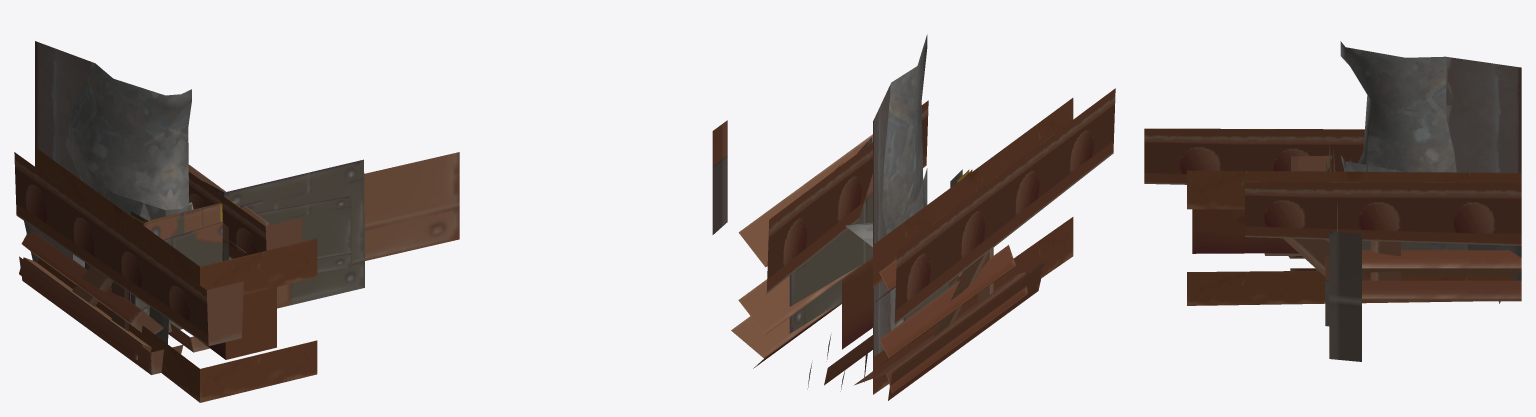
3 views of the same model, side by side, from view 1: azimuth 30°, elevation 25°; view 2: azimuth 150°, elevation 25°; view 3: azimuth 270°, elevation 25° (orthographic). The views are drawn at different scales.
Visible parts, largest first — view 1: rsrc.world.tileset.city_base.wall.high-Variant[high_horiz_ca (×3), rsrc.world.tileset.city_base.wall.high-Variant[high_vert_x2_ (×2), rsrc.world.tileset.city_base.wall.high-Variant[high_column01, rsrc.world.tileset.city_base.wall.high-Variant[high_horiz_x3 (×2), rsrc.world.tileset.city_base.wall.high-Variant[high_horiz_x2, rsrc.world.tileset.city_base.wall.high-Variant[high_vert_cap (×2), rsrc.world.tileset.city_base.wall.high-Variant[high_to_low_h, rsrc.world.tileset.city_base.wall.high-Variant[high_vert_02], rsrc.world.tileset.city_base.wall.high-Variant[high_vert_04], rsrc.world.tileset.city_base.wall.high-Variant[high_vert_01], rsrc.world.tileset.city_base.wall.high-Variant[high_horiz_05; view 2: rsrc.world.tileset.city_base.wall.high-Variant[high_horiz_ca (×3), rsrc.world.tileset.city_base.wall.high-Variant[high_column01, rsrc.world.tileset.city_base.wall.high-Variant[high_vert_cap (×3), rsrc.world.tileset.city_base.wall.high-Variant[high_vert_x2_ (×2), rsrc.world.tileset.city_base.wall.high-Variant[high_to_low_h, rsrc.world.tileset.city_base.wall.high-Variant[high_horiz_x2, rsrc.world.tileset.city_base.wall.high-Variant[high_horiz_05, rsrc.world.tileset.city_base.wall.high-Variant[high_vert_01]; view 3: rsrc.world.tileset.city_base.wall.high-Variant[high_horiz_ca (×5), rsrc.world.tileset.city_base.wall.high-Variant[high_vert_x2_ (×2), rsrc.world.tileset.city_base.wall.high-Variant[high_column01, rsrc.world.tileset.city_base.wall.high-Variant[high_horiz_x3, rsrc.world.tileset.city_base.wall.high-Variant[high_vert_cap, rsrc.world.tileset.city_base.wall.high-Variant[high_horiz_x2, rsrc.world.tileset.city_base.wall.high-Variant[high_vert_01].
Boxes of the visible parts, x1,y1,x2,y2 form: rsrc.world.tileset.city_base.wall.high-Variant[high_horiz_ca (×3): [14, 152, 302, 359]; rsrc.world.tileset.city_base.wall.high-Variant[high_vert_x2_ (×2): [35, 41, 191, 220]; rsrc.world.tileset.city_base.wall.high-Variant[high_column01: [35, 147, 317, 402]; rsrc.world.tileset.city_base.wall.high-Variant[high_horiz_x3 (×2): [204, 152, 459, 308]; rsrc.world.tileset.city_base.wall.high-Variant[high_horiz_x2: [129, 195, 352, 315]; rsrc.world.tileset.city_base.wall.high-Variant[high_vert_cap (×2): [21, 164, 269, 334]; rsrc.world.tileset.city_base.wall.high-Variant[high_to_low_h: [19, 256, 183, 374]; rsrc.world.tileset.city_base.wall.high-Variant[high_vert_02]: [130, 201, 234, 261]; rsrc.world.tileset.city_base.wall.high-Variant[high_vert_04]: [133, 203, 221, 332]; rsrc.world.tileset.city_base.wall.high-Variant[high_vert_01]: [103, 188, 165, 219]; rsrc.world.tileset.city_base.wall.high-Variant[high_horiz_05: [168, 323, 209, 352]; rsrc.world.tileset.city_base.wall.high-Variant[high_horiz_ca (×3): [731, 88, 1115, 392]; rsrc.world.tileset.city_base.wall.high-Variant[high_column01: [842, 98, 1073, 394]; rsrc.world.tileset.city_base.wall.high-Variant[high_vert_cap (×3): [738, 134, 1015, 373]; rsrc.world.tileset.city_base.wall.high-Variant[high_vert_x2_ (×2): [873, 34, 927, 244]; rsrc.world.tileset.city_base.wall.high-Variant[high_to_low_h: [888, 260, 1045, 400]; rsrc.world.tileset.city_base.wall.high-Variant[high_horiz_x2: [712, 120, 727, 234]; rsrc.world.tileset.city_base.wall.high-Variant[high_horiz_05: [824, 335, 872, 385]; rsrc.world.tileset.city_base.wall.high-Variant[high_vert_01]: [891, 168, 927, 330]; rsrc.world.tileset.city_base.wall.high-Variant[high_horiz_ca (×5): [1144, 128, 1521, 301]; rsrc.world.tileset.city_base.wall.high-Variant[high_vert_x2_ (×2): [1340, 41, 1521, 172]; rsrc.world.tileset.city_base.wall.high-Variant[high_column01: [1187, 170, 1521, 305]; rsrc.world.tileset.city_base.wall.high-Variant[high_horiz_x3: [1329, 230, 1361, 361]; rsrc.world.tileset.city_base.wall.high-Variant[high_vert_cap: [1362, 250, 1521, 275]; rsrc.world.tileset.city_base.wall.high-Variant[high_horiz_x2: [1325, 160, 1329, 326]; rsrc.world.tileset.city_base.wall.high-Variant[high_vert_01]: [1345, 161, 1405, 171].
Size of the model in its own units: 3.2 by 2.23 by 3.
6 materials, 6 textured.
